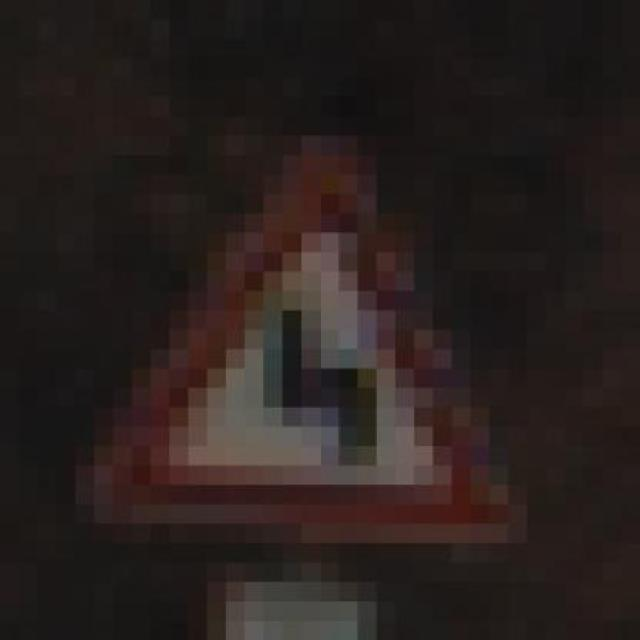Left Zig Zag Traffic: (75, 97, 528, 563)
